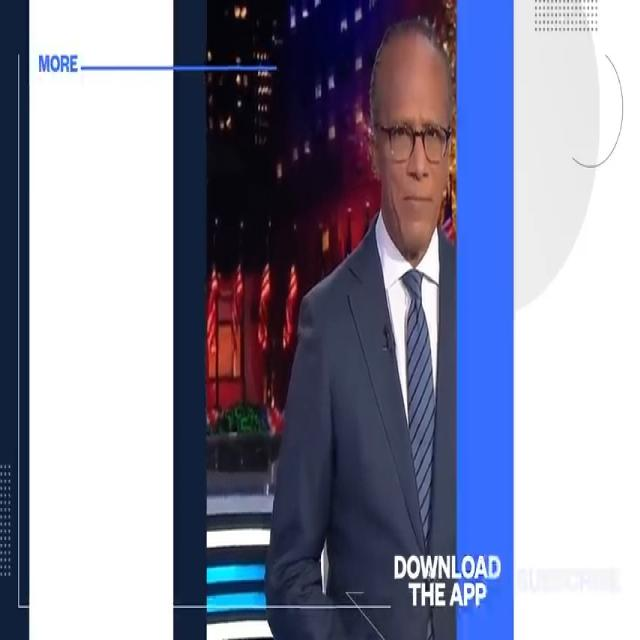non-fight: (263, 16, 457, 640)
